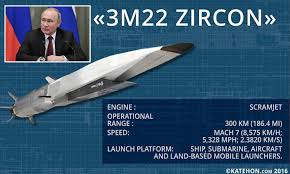ten_lua: (3, 47, 210, 114)
